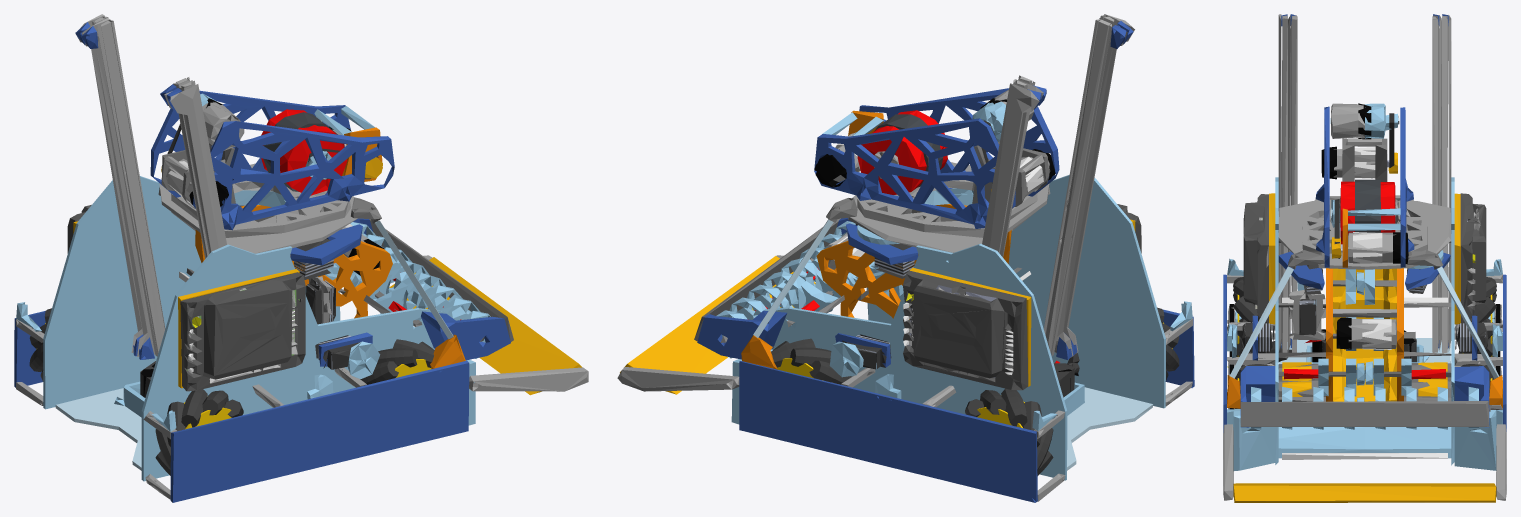
File: wxyz-ri3d-low.glb
3 views of the same model, side by side, from view 1: azimuth 30°, elevation 25°; view 2: azimuth 150°, elevation 25°; view 3: azimuth 270°, elevation 25° (orthographic). The views are drawn at different scales.
Visible parts, largest first — view 1: body, turret, arm, intake_front, flywheel, wheel_br, wheel_fr, flywheel_top, intake_2; view 2: body, turret, arm, intake_front, flywheel, wheel_bl, wheel_fl, intake_2, flywheel_top; view 3: body, turret, arm, intake_2, flywheel, flywheel_top, intake_front, intake_4, wheel_bl, wheel_br.
Part boxes in pixels (x1,y1,x2,y2): body: [14, 14, 513, 502]; turret: [150, 90, 394, 237]; arm: [389, 255, 588, 395]; intake_front: [350, 222, 490, 358]; flywheel: [261, 109, 347, 195]; wheel_br: [155, 389, 243, 475]; wheel_fr: [360, 339, 434, 384]; flywheel_top: [200, 93, 244, 150]; intake_2: [332, 262, 422, 326]; body: [694, 14, 1194, 502]; turret: [814, 88, 1059, 237]; arm: [617, 255, 815, 394]; intake_front: [716, 221, 855, 358]; flywheel: [857, 110, 947, 194]; wheel_bl: [965, 388, 1053, 475]; wheel_fl: [771, 338, 851, 384]; intake_2: [787, 261, 875, 327]; flywheel_top: [972, 89, 1034, 141]; body: [1223, 14, 1506, 470]; turret: [1302, 106, 1427, 267]; arm: [1223, 424, 1506, 502]; intake_2: [1278, 358, 1451, 396]; flywheel: [1330, 179, 1399, 244]; flywheel_top: [1330, 103, 1399, 139]; intake_front: [1251, 387, 1490, 429]; intake_4: [1333, 269, 1396, 304]; wheel_bl: [1455, 277, 1502, 356]; wheel_br: [1227, 277, 1264, 365].
Size of the model in its own units: 0.5053 by 0.4438 by 0.328.
